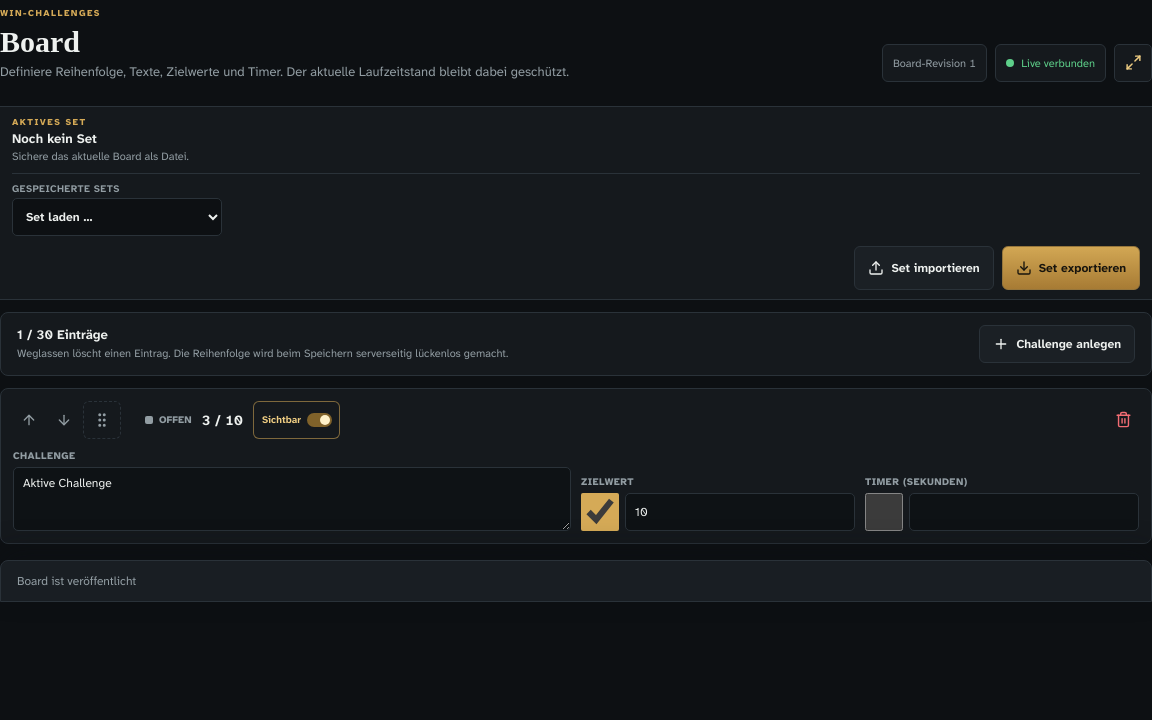
ChallengeBoard › behält aktives Set, Auswahl und Meldung bei einem reinen Laufzeit-Update
Select "Aktives Set · mit Stand" in the dropdown named "Gespeichertes Set laden" at (117, 217), box [12,198,222,236]
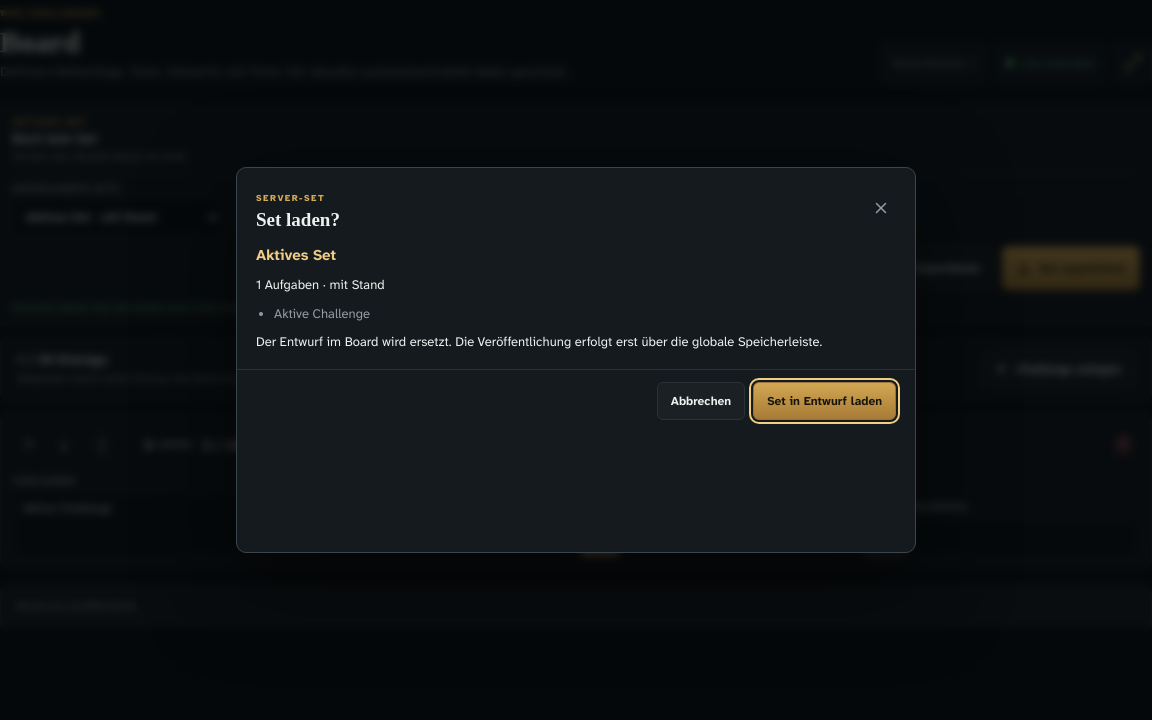
Click the button "Set in Entwurf laden" at (825, 401), box [753,382,896,420]
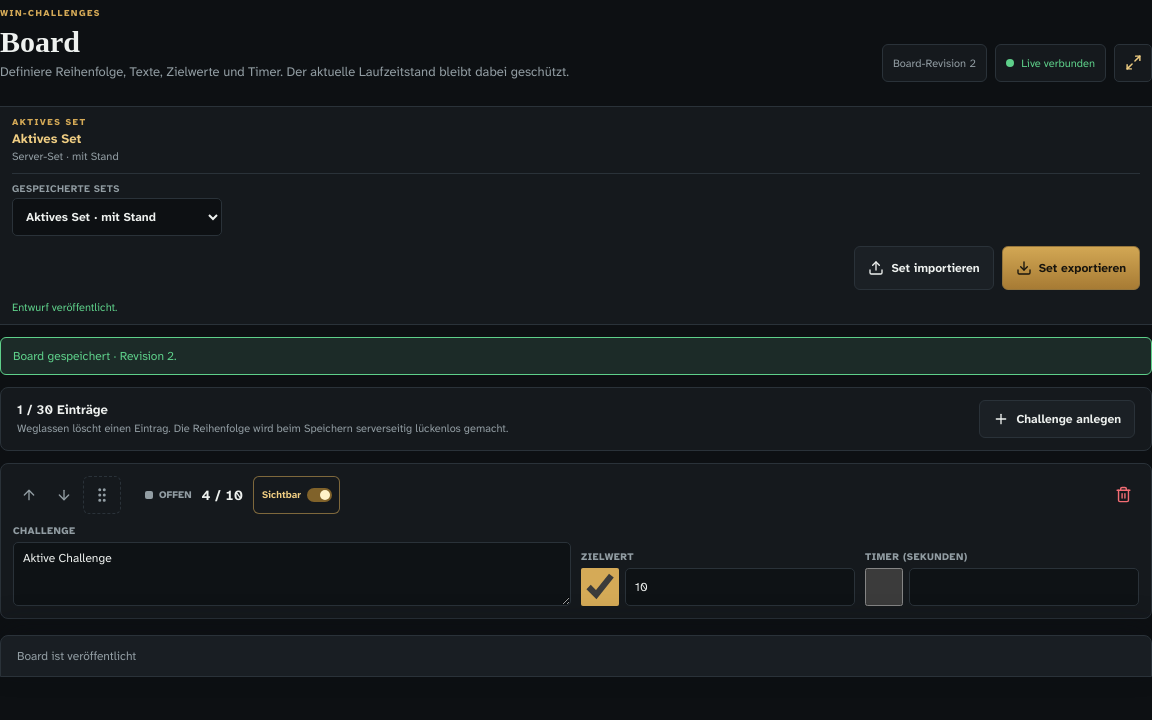
Expected: the 2nd text "Aktives Set" is shown, [12,130,82,147]
Expected: the text "Entwurf veröffentlicht." is shown, [12,300,117,314]
